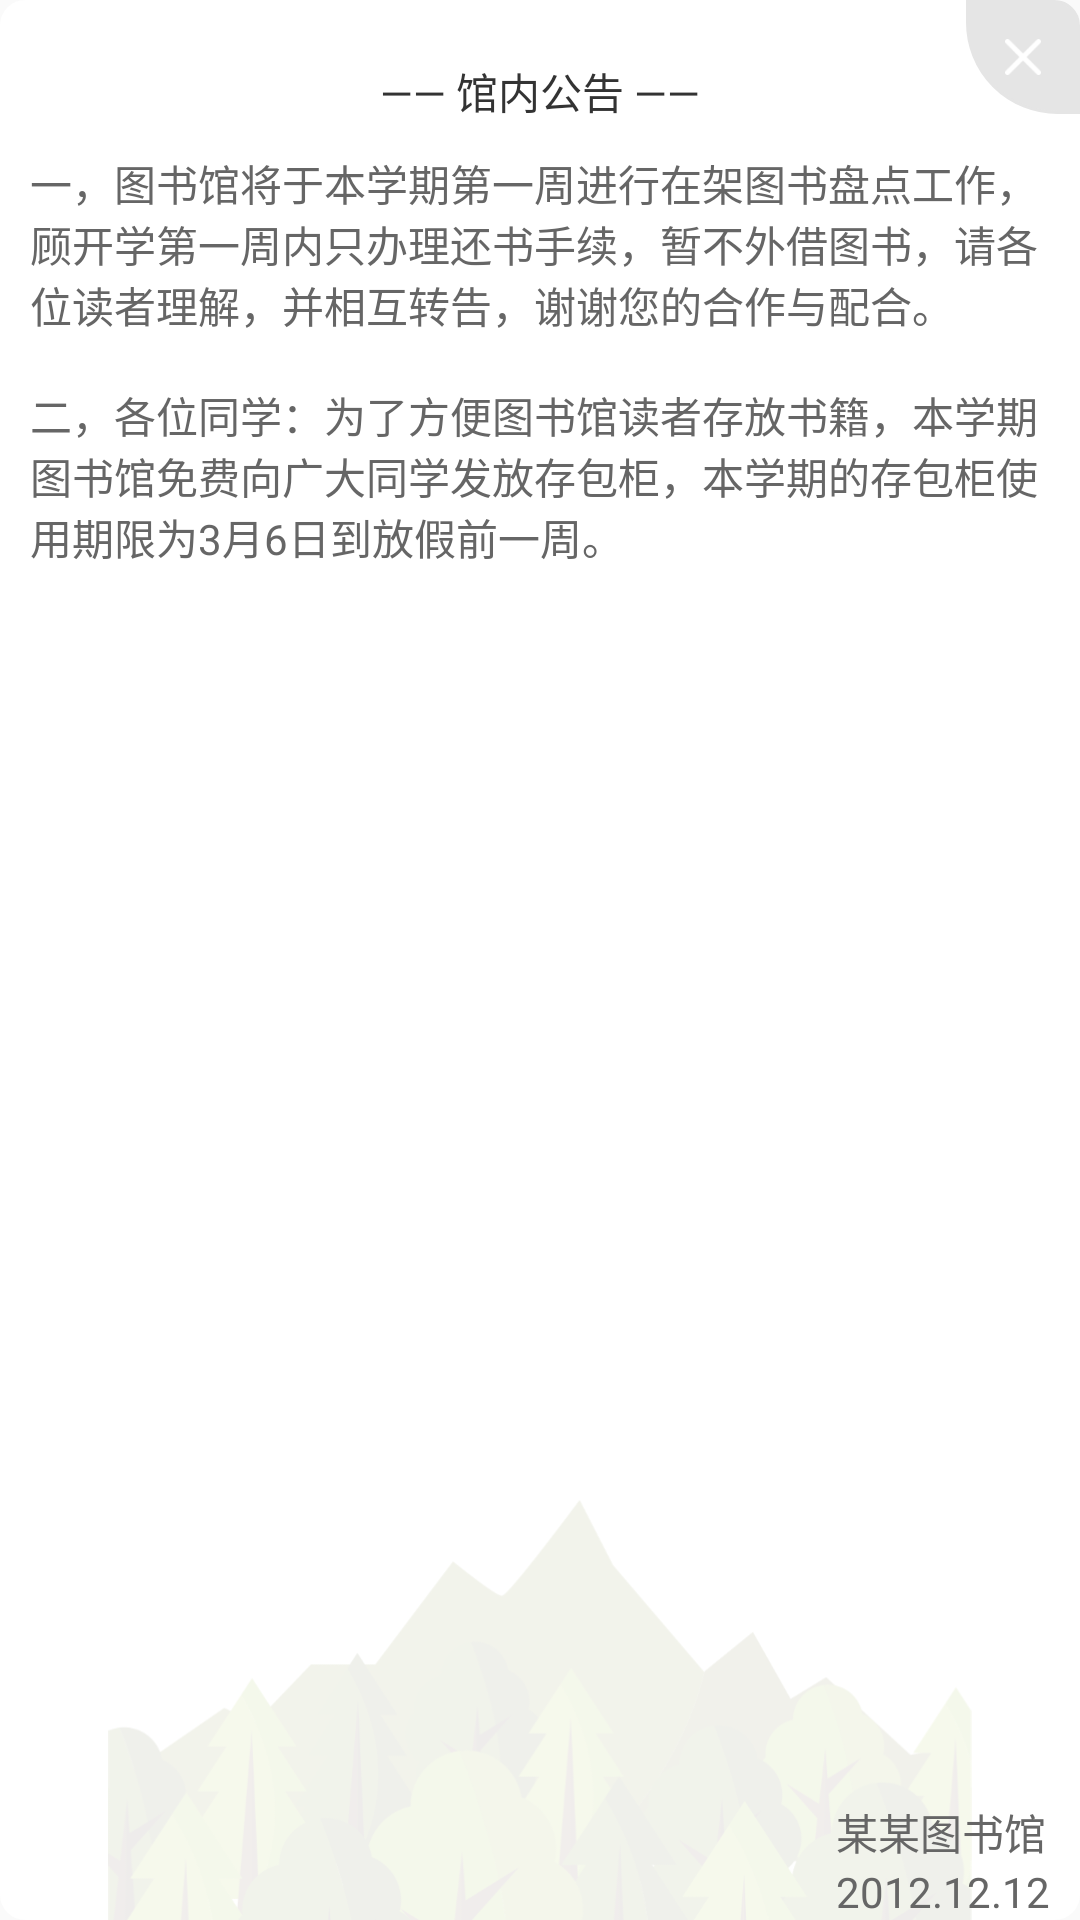

Where icons sit on this 1080px x 1920px app screen, as (x1, y1, x2, y2):
delete: (1005, 39, 1040, 75)
